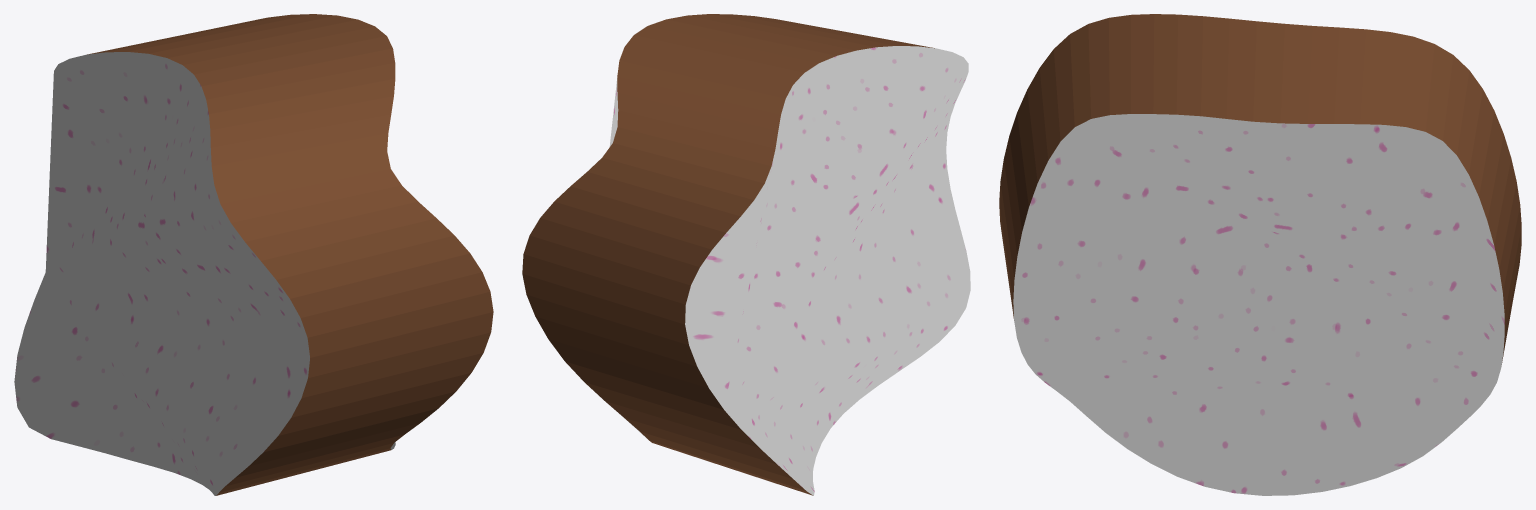
File: HalfSlice.fbx
3 renders of one model, left to right at view 1: azimuth 30°, elevation 25°; view 2: azimuth 150°, elevation 25°; view 3: azimuth 270°, elevation 25°, orthographic. The views are drawn at different scales.
Visible parts, largest first — view 1: Cube.008; view 2: Cube.008; view 3: Cube.008.
Part boxes in pixels (x1,y1,x2,y2): Cube.008: (14, 14, 493, 495); Cube.008: (522, 14, 970, 495); Cube.008: (999, 14, 1521, 495).
Bounding box in the file's own units: 11.31 × 15.26 × 17.83.
